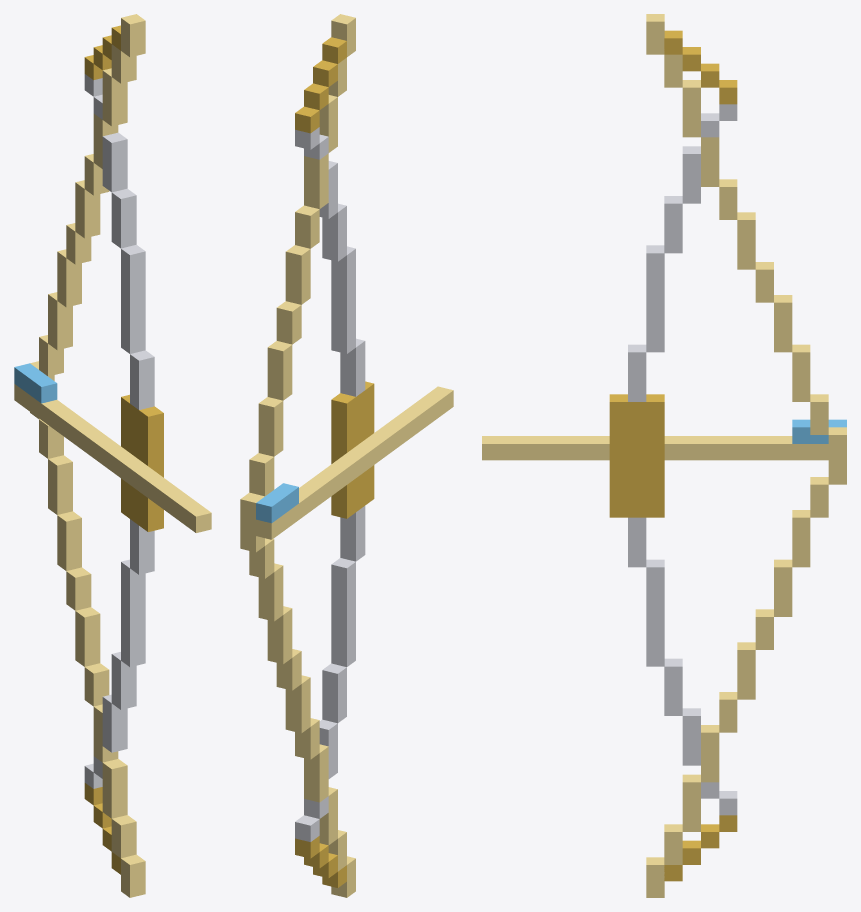
File: vox_bow_star.glb
3 views of the same model, side by side, from view 1: azimuth 30°, elevation 25°; view 2: azimuth 150°, elevation 25°; view 3: azimuth 270°, elevation 25° (orthographic).
Parts seen in each view (by area): view 1: vox_bow_star; view 2: vox_bow_star; view 3: vox_bow_star.
Part boxes in pixels (x1,y1,x2,y2): vox_bow_star: (14, 14, 211, 897); vox_bow_star: (240, 14, 453, 897); vox_bow_star: (482, 14, 846, 897).
Bounding box in the file's own units: 0.04 × 1.06 × 0.4.
